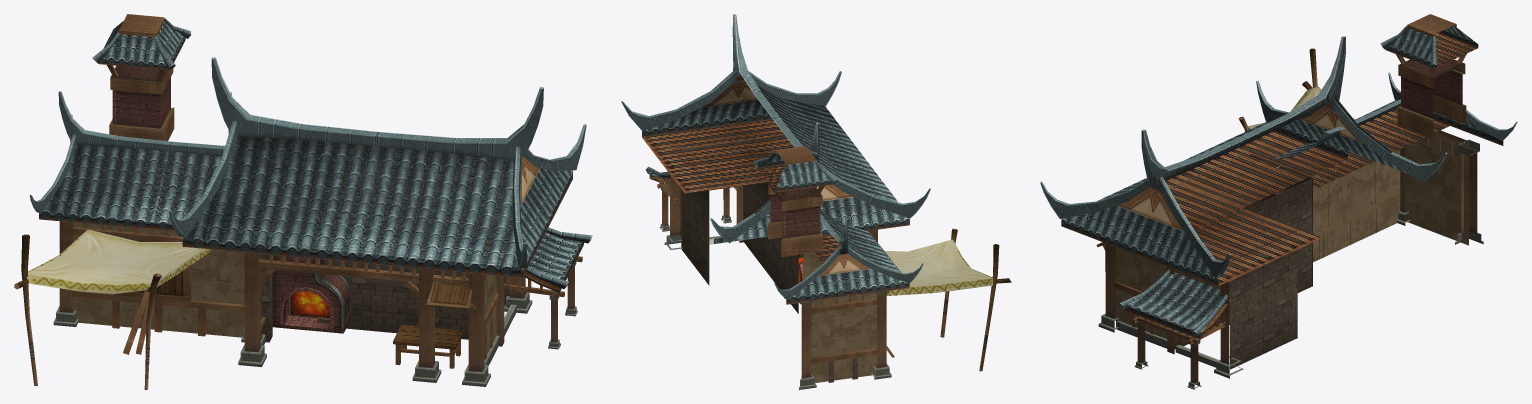
File: xsz_fangzi_4.FBX
3 views of the same model, side by side, from view 1: azimuth 30°, elevation 25°; view 2: azimuth 150°, elevation 25°; view 3: azimuth 270°, elevation 25° (orthographic). The views are drawn at different scales.
Parts seen in each view (by area): view 1: xsz_fangzi_4; view 2: xsz_fangzi_4; view 3: xsz_fangzi_4.
Part boxes in pixels (bbox=[...]): xsz_fangzi_4: bbox=[14, 14, 592, 389]; xsz_fangzi_4: bbox=[621, 14, 1011, 389]; xsz_fangzi_4: bbox=[1040, 14, 1517, 389].
Size of the model in its own units: 1455 by 1279 by 724.
